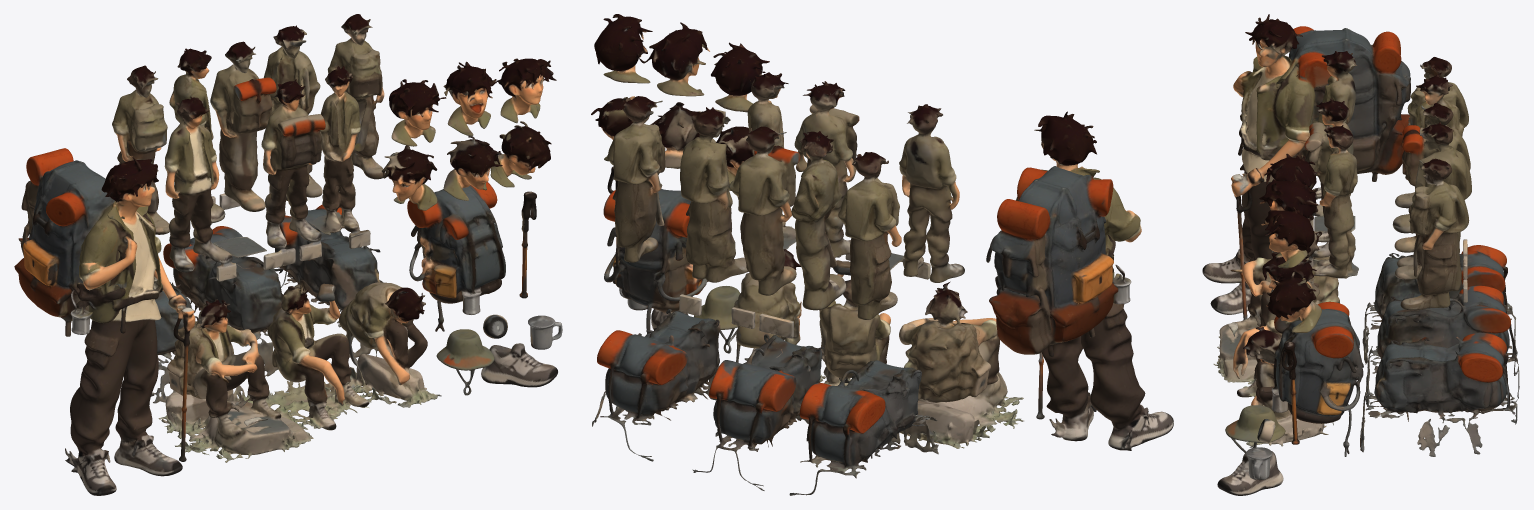
File: trailbound.glb
3 renders of one model, left to right at view 1: azimuth 30°, elevation 25°; view 2: azimuth 150°, elevation 25°; view 3: azimuth 270°, elevation 25°, orthographic. The views are drawn at different scales.
Bounding box in the file's own units: 1.9 × 1.17 × 1.09.
1 material, 1 textured.
